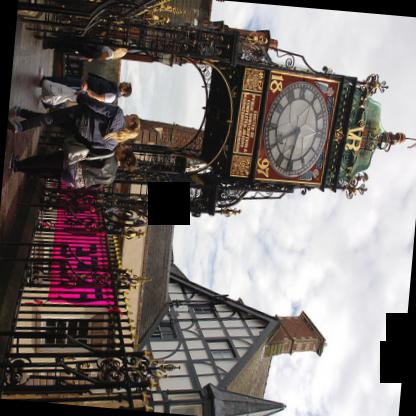handbag: (62, 136, 113, 165), (41, 79, 76, 107), (77, 53, 85, 60)
